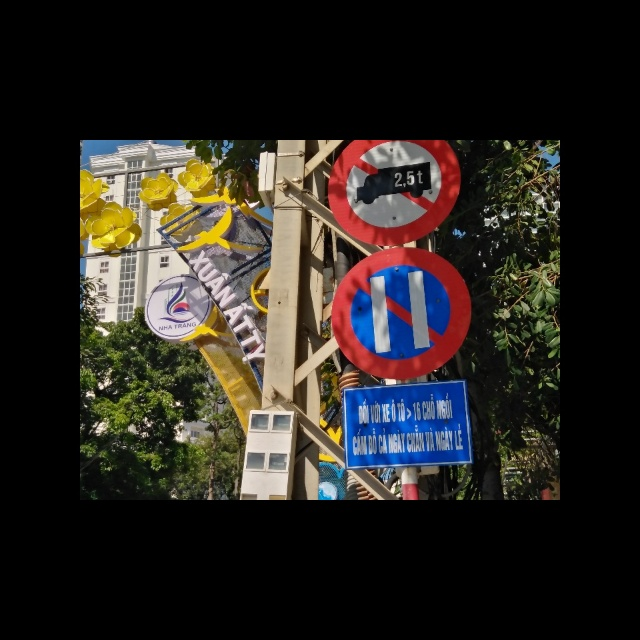Cấm xe tải: (327, 140, 461, 246)
Cấm đỗ xe ngày chẵn: (325, 249, 471, 379)
